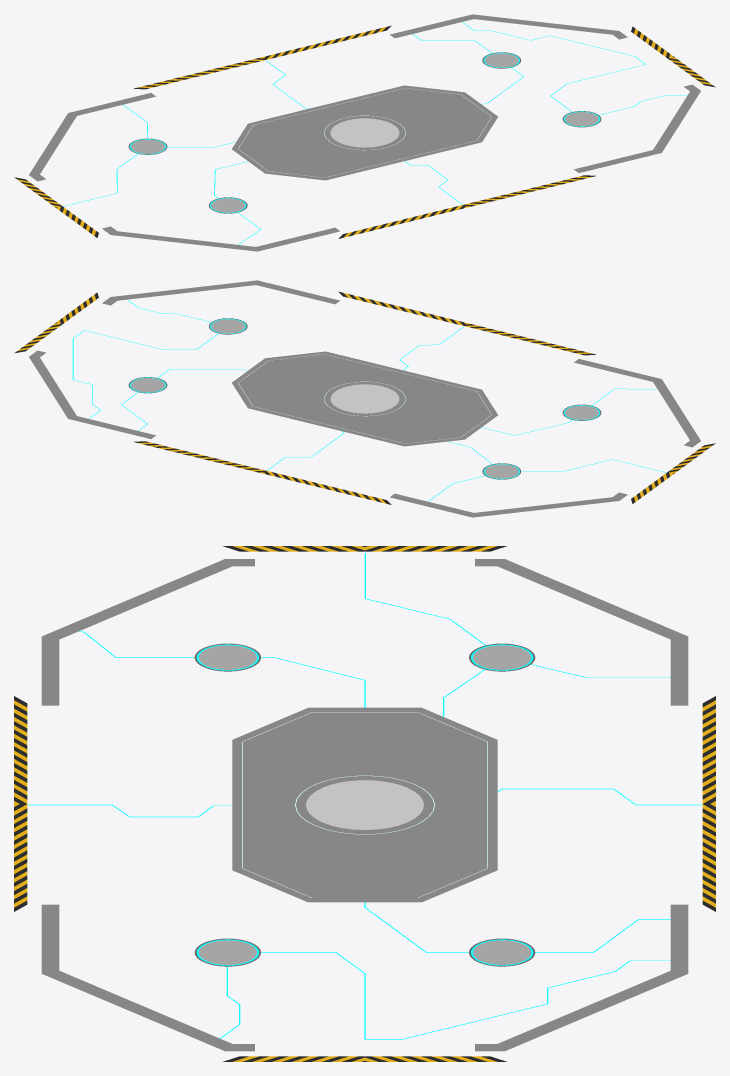
The model's file is mesh_Spaceship_DM_FloorPattern.fbx.
The picture shows the model from 3 angles, top to bottom: view 1: azimuth 30°, elevation 25°; view 2: azimuth 150°, elevation 25°; view 3: azimuth 270°, elevation 25°; orthographic projection. The views are drawn at different scales.
Parts seen in each view (by area): view 1: mesh_ExteriorFrame.002, mesh_ExteriorFrame, mesh_spaceship_DM_Wall.002, mesh_CylinderUnderBumper, mesh_pattern, mesh_ExteriorFrame.004; view 2: mesh_ExteriorFrame.002, mesh_ExteriorFrame, mesh_spaceship_DM_Wall.002, mesh_CylinderUnderBumper, mesh_pattern, mesh_ExteriorFrame.004; view 3: mesh_ExteriorFrame.002, mesh_ExteriorFrame, mesh_spaceship_DM_Wall.002, mesh_CylinderUnderBumper, mesh_pattern, mesh_ExteriorFrame.004.
Part boxes in pixels (box(x1,y1,x2,y2)): mesh_ExteriorFrame.002: box(232, 85, 497, 180); mesh_ExteriorFrame: box(29, 14, 700, 251); mesh_spaceship_DM_Wall.002: box(14, 25, 715, 238); mesh_CylinderUnderBumper: box(128, 52, 601, 213); mesh_pattern: box(63, 22, 686, 244); mesh_ExteriorFrame.004: box(238, 88, 491, 177); mesh_ExteriorFrame.002: box(232, 351, 497, 446); mesh_ExteriorFrame: box(29, 280, 700, 517); mesh_spaceship_DM_Wall.002: box(14, 291, 715, 504); mesh_CylinderUnderBumper: box(128, 318, 601, 479); mesh_pattern: box(72, 299, 666, 501); mesh_ExteriorFrame.004: box(238, 354, 491, 443); mesh_ExteriorFrame.002: box(232, 707, 497, 902); mesh_ExteriorFrame: box(41, 559, 688, 1051); mesh_spaceship_DM_Wall.002: box(14, 546, 715, 1061); mesh_CylinderUnderBumper: box(194, 643, 535, 966); mesh_pattern: box(27, 553, 702, 1039); mesh_ExteriorFrame.004: box(242, 712, 487, 897).
Size of the model in its own units: 58.75 by 0.0611 by 33.79.
